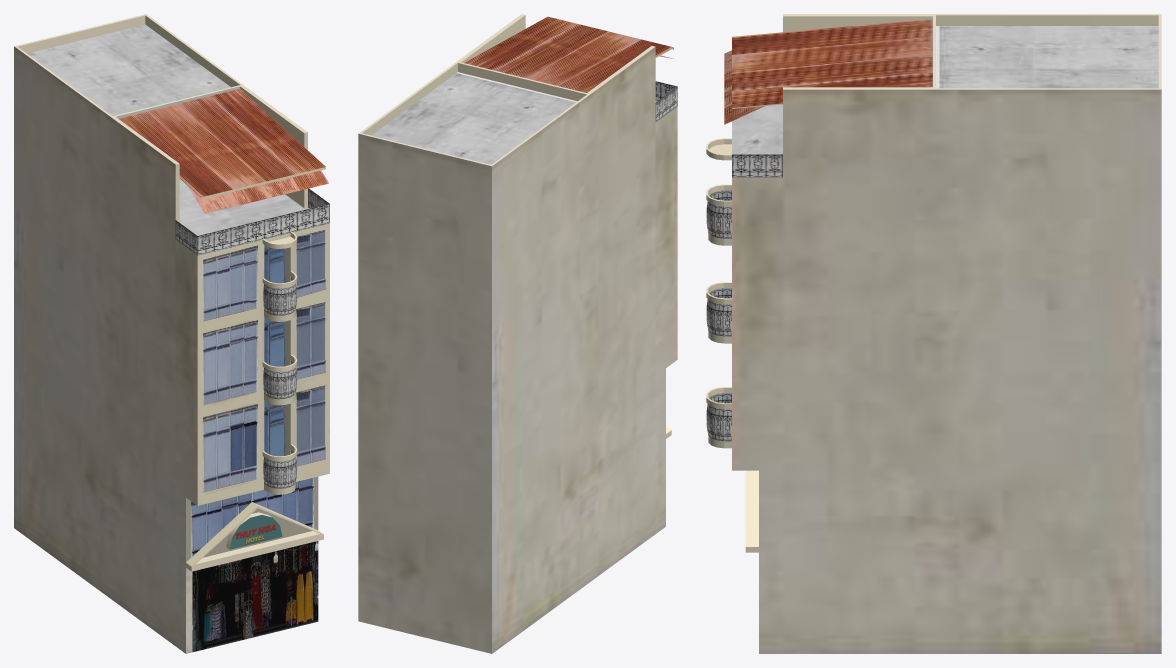
The picture shows the model from 3 angles, left to right: view 1: azimuth 30°, elevation 25°; view 2: azimuth 150°, elevation 25°; view 3: azimuth 270°, elevation 25°; orthographic projection. The views are drawn at different scales.
Visible parts, largest first — view 1: HN923___ThuyNga_Hotel___Tiger; view 2: HN923___ThuyNga_Hotel___Tiger; view 3: HN923___ThuyNga_Hotel___Tiger.
Boxes of the visible parts, x1,y1,x2,y2 form: HN923___ThuyNga_Hotel___Tiger: (14, 14, 329, 653); HN923___ThuyNga_Hotel___Tiger: (358, 14, 677, 653); HN923___ThuyNga_Hotel___Tiger: (706, 14, 1161, 653).
Size of the model in its own units: 6 by 20.89 by 15.27.
1 material, 1 textured.
